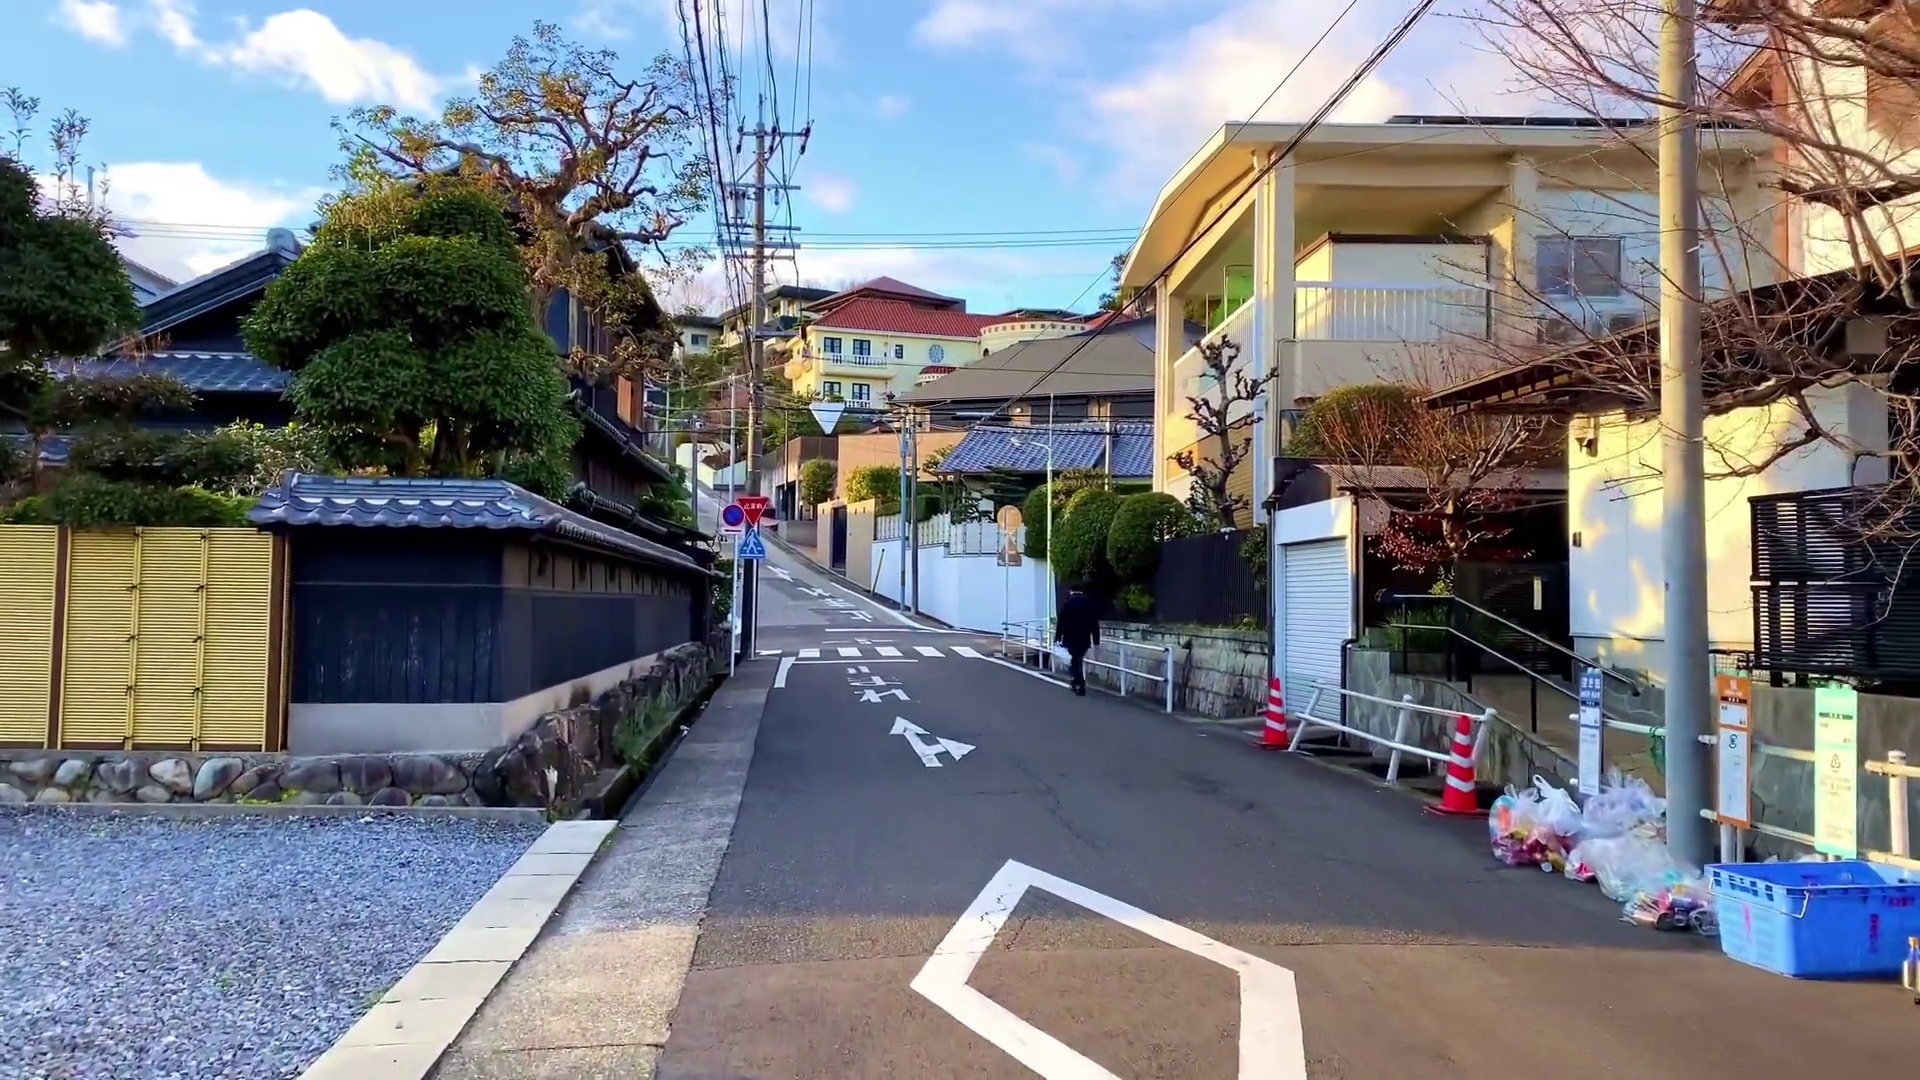person: (1050, 586, 1101, 695)
